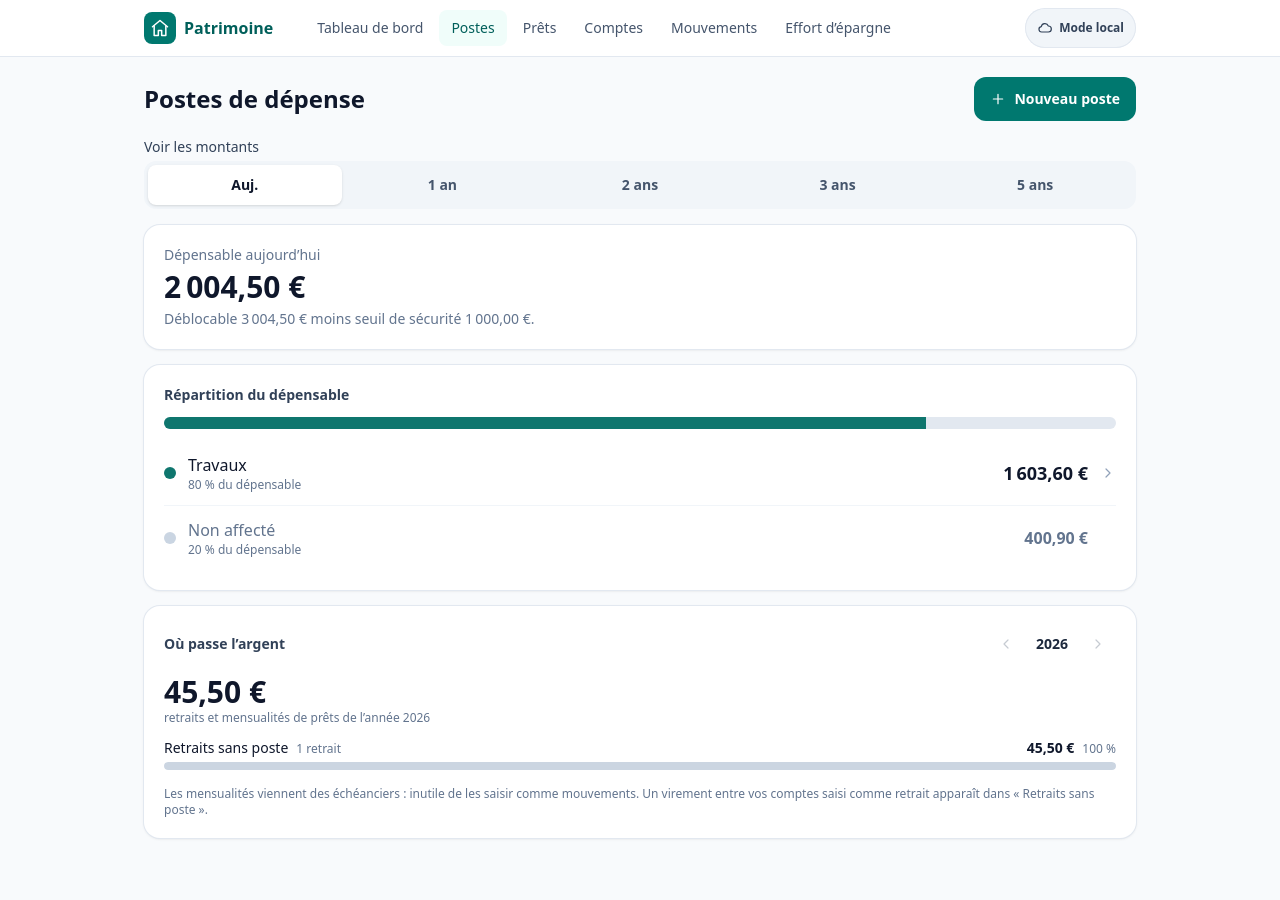
Scenario: Postes de dépense › borne le curseur à ce qui reste et le relie au champ et à l’aperçu
Click the button "Nouveau poste". click: [1055, 99]
box: [974,77,1136,121]
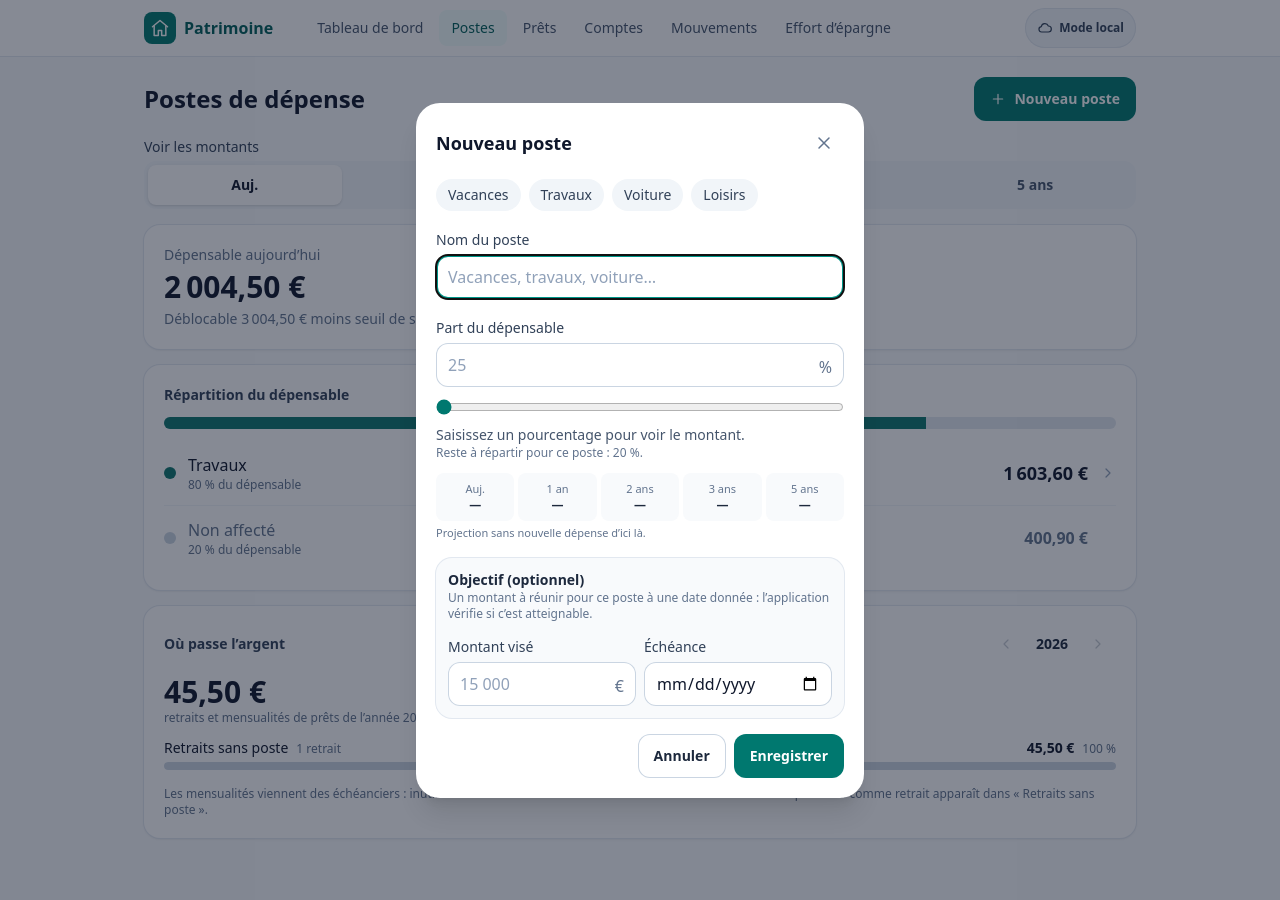
Set the slider named "ajuster le pourcentage" to "15". click: [738, 406]
box: [436,398,844,414]
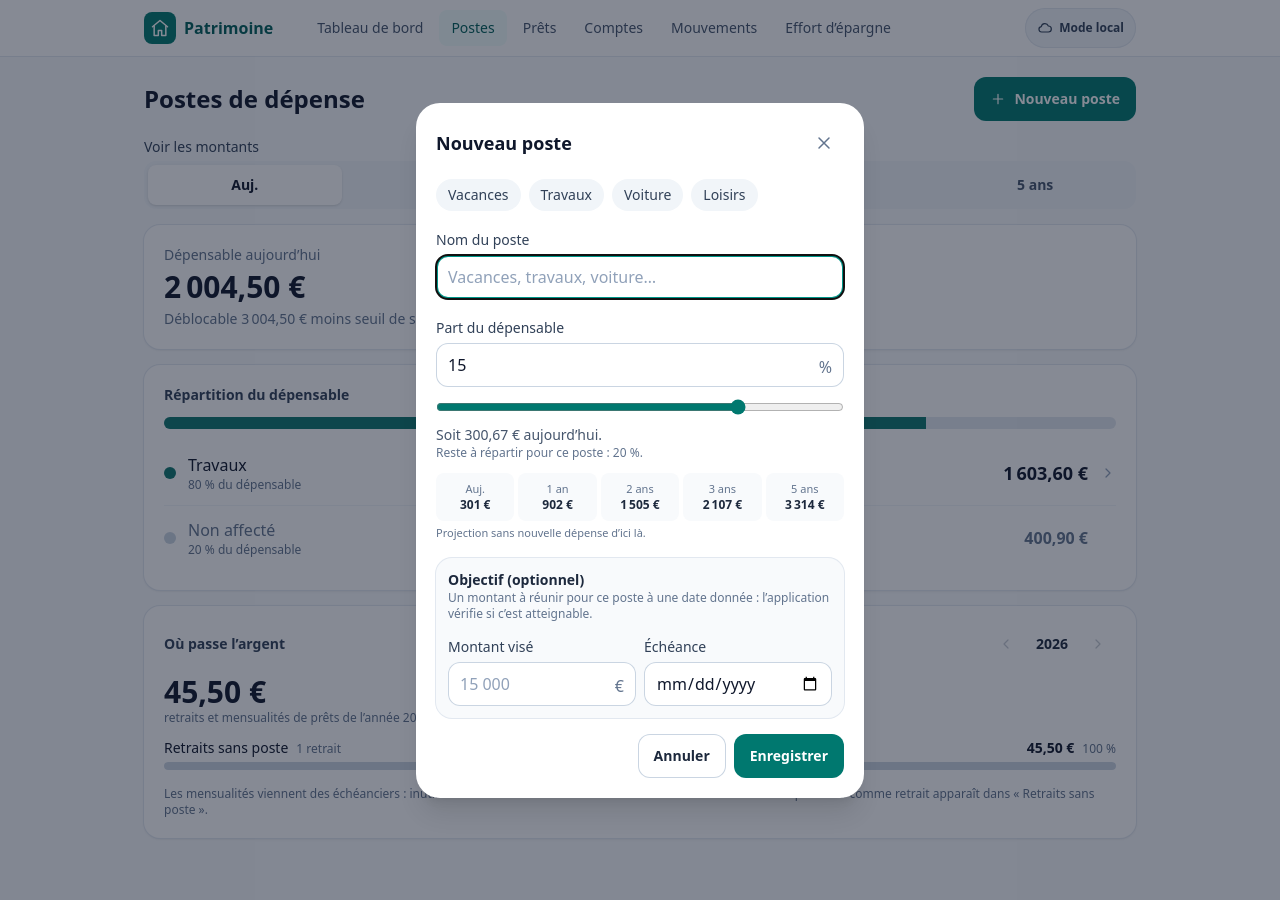
Now the field labelled "Part du dépensable %" holds "15", box [436,342,844,386]
